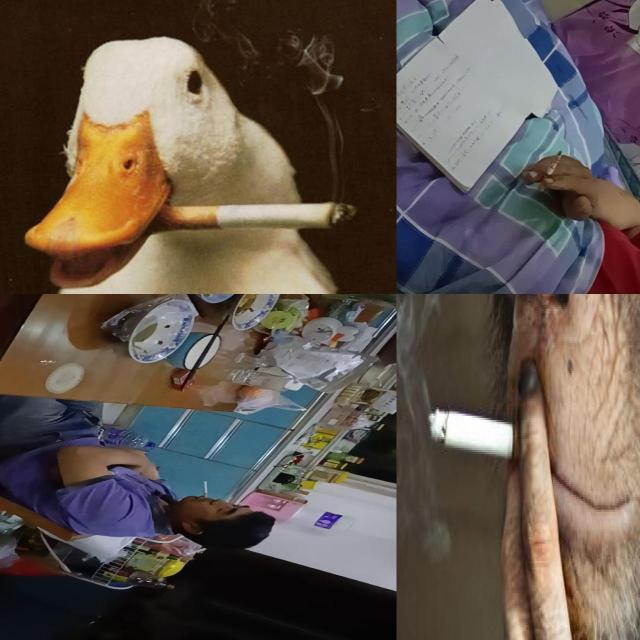smoking: (120, 202, 358, 236), (428, 408, 544, 466), (538, 151, 562, 192), (204, 480, 208, 498)
